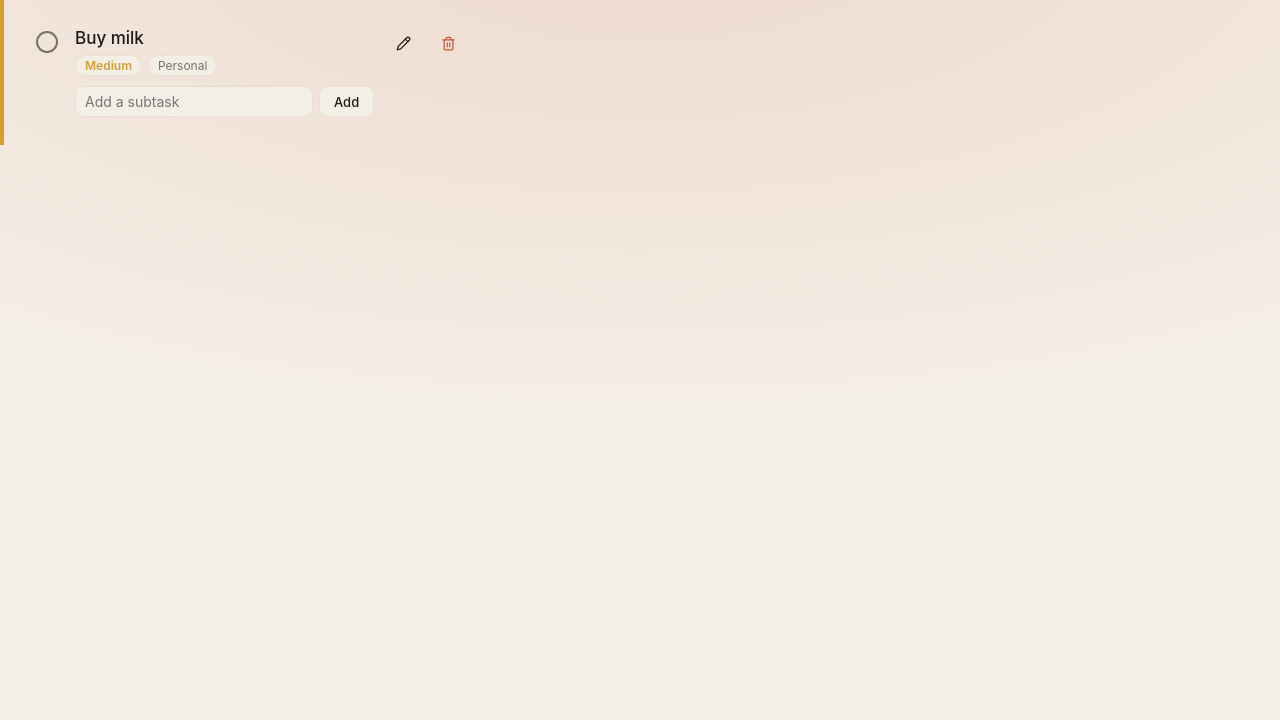
Test: TodoItem delete confirmation › clicking delete opens a confirm dialog instead of deleting immediately
Click the button named "Delete \"Buy milk\"": coordinates (449, 44) [433,28,464,59]
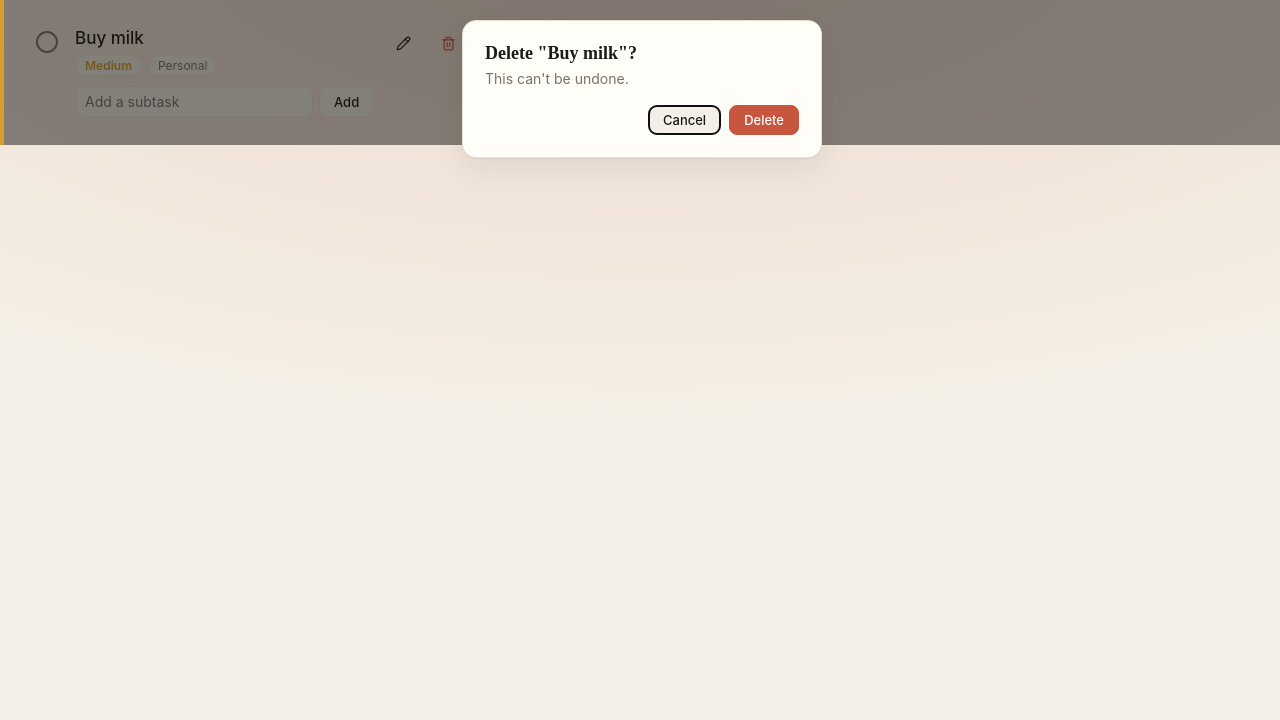
Expected: the dialog is shown, [462,20,822,158]
Expected: the text "Delete \"Buy milk\"?" is shown, [485,43,637,63]
